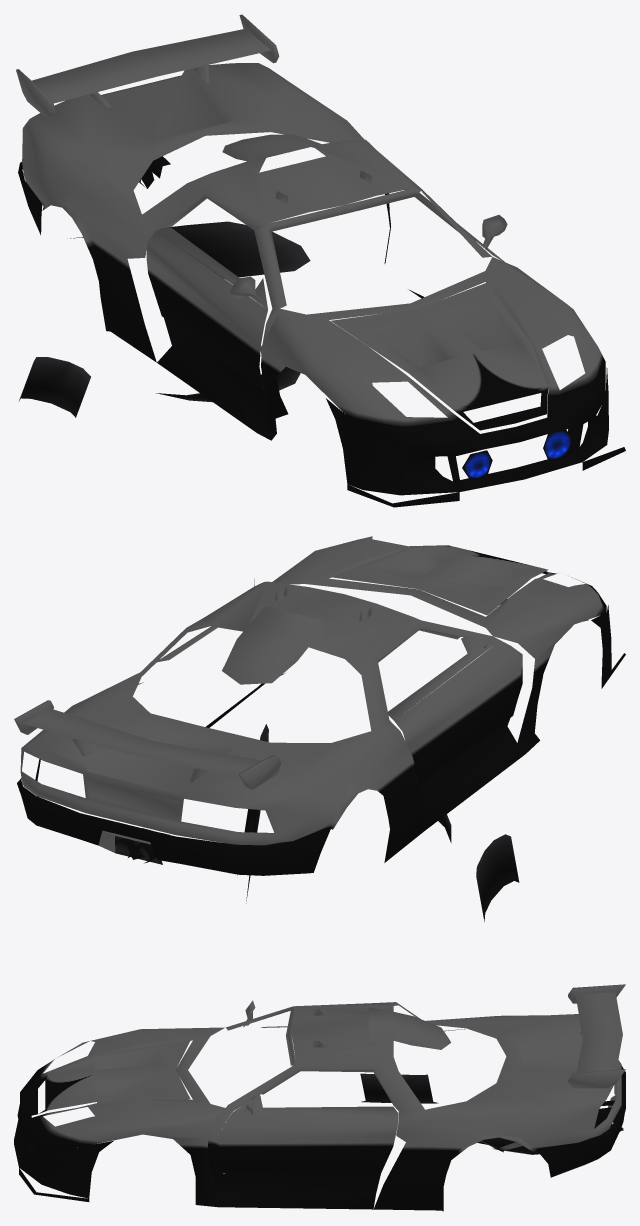
The model's file is car-SPRT_Car11.glb.
The picture shows the model from 3 angles, top to bottom: view 1: azimuth 30°, elevation 25°; view 2: azimuth 150°, elevation 25°; view 3: azimuth 270°, elevation 25°; orthographic projection. The views are drawn at different scales.
Visible parts, largest first — view 1: SPRT_Car11; view 2: SPRT_Car11; view 3: SPRT_Car11.
Boxes of the visible parts, <box> form: SPRT_Car11: <box>16,14,625,507</box>; SPRT_Car11: <box>14,536,625,921</box>; SPRT_Car11: <box>14,984,625,1211</box>.
Size of the model in its own units: 2.54 by 1.42 by 4.47.
Materials: 10 (10 with a texture image).
